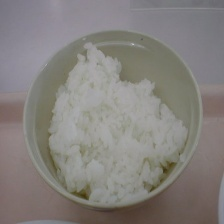rice: (40, 35, 192, 209)
